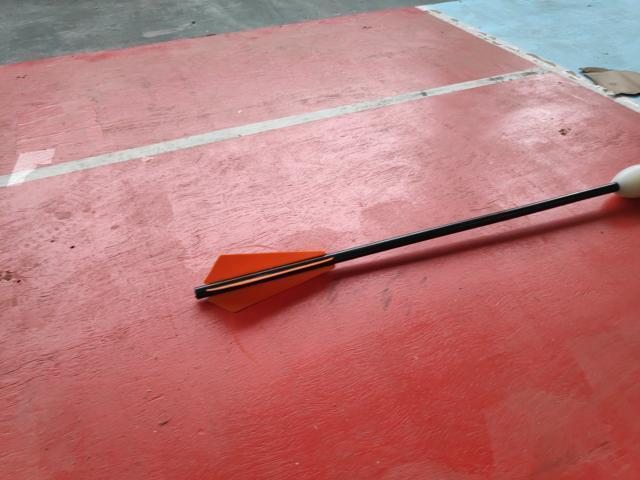Head: (607, 156, 640, 206)
Tail: (187, 246, 337, 318)
